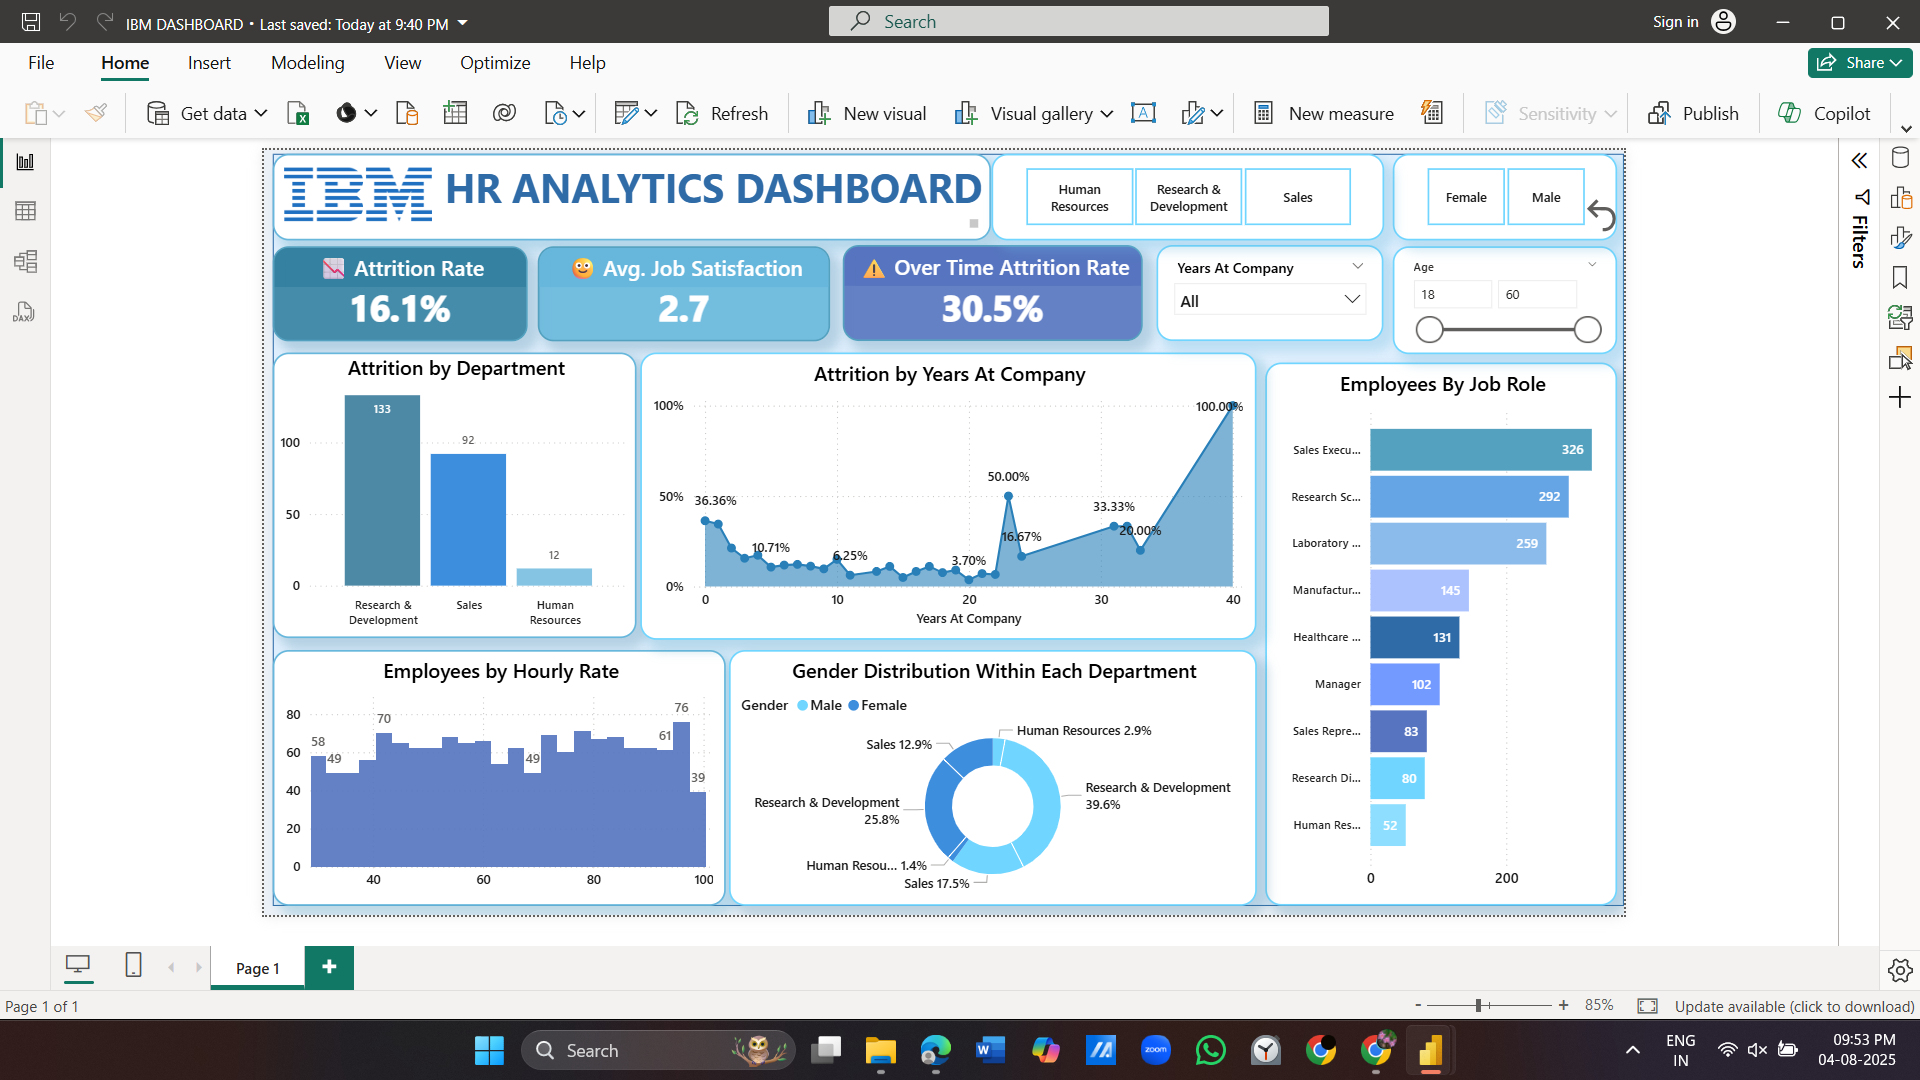

Layout of this report page (visuals, bound fields, positions):
{"tool":"powerbi","page":{"name":"Page 1","canvas":[1280,720],"ordinal":0},"visuals":[{"type":"textbox","box":[353.4,298.4,579.6,69.7],"z":0},{"type":"shape","box":[8.6,3.7,1271.7,708],"z":1000},{"type":"textbox","title":"HR ANALYTICS DASHBOARD","box":[8.6,3.7,676.2,81.9],"z":2000},{"type":"card","title":"📉 Attrition Rate","fields":{"Values":["HR_Data.Attrition Rate"]},"box":[8.6,90.5,239.7,89.3],"z":3000},{"type":"card","title":"🙂 Avg. Job Satisfaction","fields":{"Values":["HR_Data.Average Job Satisfaction"]},"box":[258,90.5,275.1,89.3],"z":4000},{"type":"card","title":"⚠️ Over Time Attrition Rate","fields":{"Values":["HR_Data.Overtime Attrition Rate"]},"box":[544.2,89.3,282.5,90.5],"z":5000},{"type":"clusteredColumnChart","title":"Attrition  by Department ","fields":{"Category":["HR_Data.Department"],"Y":["HR_Data.Attrition Count"]},"box":[8.6,190.8,342.4,269],"z":6000},{"type":"clusteredColumnChart","title":"Employees by Hourly Rate","fields":{"Y":["HR_Data.EmployeeNumber"],"Category":["HR_Data.HourlyRate (bins)"]},"box":[8.6,470.8,426.8,240.9],"z":7000},{"type":"barChart","title":"Employees By Job Role","fields":{"Category":["HR_Data.JobRole"],"Y":["HR_Data.Employee Count"]},"box":[942.8,200.5,331.4,511.1],"z":8000},{"type":"areaChart","title":"Attrition by Years At Company","fields":{"Category":["HR_Data.YearsAtCompany"],"Y":["HR_Data.Attrition %"]},"box":[354.6,190.8,579.6,270.2],"z":9000},{"type":"donutChart","title":"Gender Distribution Within Each Department","fields":{"Category":["HR_Data.Gender"],"Y":["HR_Data.Employee Count"],"Series":["HR_Data.Department"]},"box":[437.8,470.8,496.5,240.9],"z":10000},{"type":"slicer","fields":{"Values":["HR_Data.YearsAtCompany"]},"box":[840.1,89.3,214,90.5],"z":11000},{"type":"slicer","fields":{"Values":["HR_Data.Age"]},"box":[1062.6,90.5,211.6,101.5],"z":12000},{"type":"slicer","fields":{"Values":["HR_Data.Gender"]},"box":[1062.6,3.7,211.6,81.9],"z":13000},{"type":"slicer","fields":{"Values":["HR_Data.Department"]},"box":[684.8,3.7,369.3,81.9],"z":14000},{"type":"actionButton","box":[1238.7,41.6,41.6,40.4],"z":15002},{"type":"image","box":[14.7,12.2,149.2,59.9],"z":16002}]}

Visuals, with their boxes on the page's 1280x720 design canvas (x1, y1, x2, y2). These are canvas units, not pixel positions in the 1920x1080 screenshot, which may show the page scaled, cropped or inside an application window:
textbox: detection(353, 298, 933, 368)
shape: detection(9, 4, 1280, 712)
"HR ANALYTICS DASHBOARD" textbox: detection(9, 4, 685, 86)
"📉 Attrition Rate" card: detection(9, 90, 248, 180)
"🙂 Avg. Job Satisfaction" card: detection(258, 90, 533, 180)
"⚠️ Over Time Attrition Rate" card: detection(544, 89, 827, 180)
"Attrition  by Department " clusteredColumnChart: detection(9, 191, 351, 460)
"Employees by Hourly Rate" clusteredColumnChart: detection(9, 471, 435, 712)
"Employees By Job Role" barChart: detection(943, 200, 1274, 712)
"Attrition by Years At Company" areaChart: detection(355, 191, 934, 461)
"Gender Distribution Within Each Department" donutChart: detection(438, 471, 934, 712)
slicer - HR_Data.YearsAtCompany: detection(840, 89, 1054, 180)
slicer - HR_Data.Age: detection(1063, 90, 1274, 192)
slicer - HR_Data.Gender: detection(1063, 4, 1274, 86)
slicer - HR_Data.Department: detection(685, 4, 1054, 86)
actionButton: detection(1239, 42, 1280, 82)
image: detection(15, 12, 164, 72)
